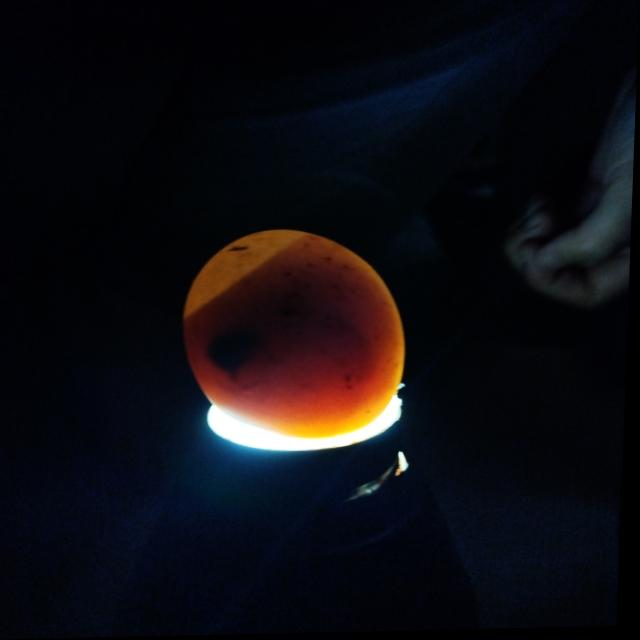Area Infectada: (207, 259, 370, 390)
